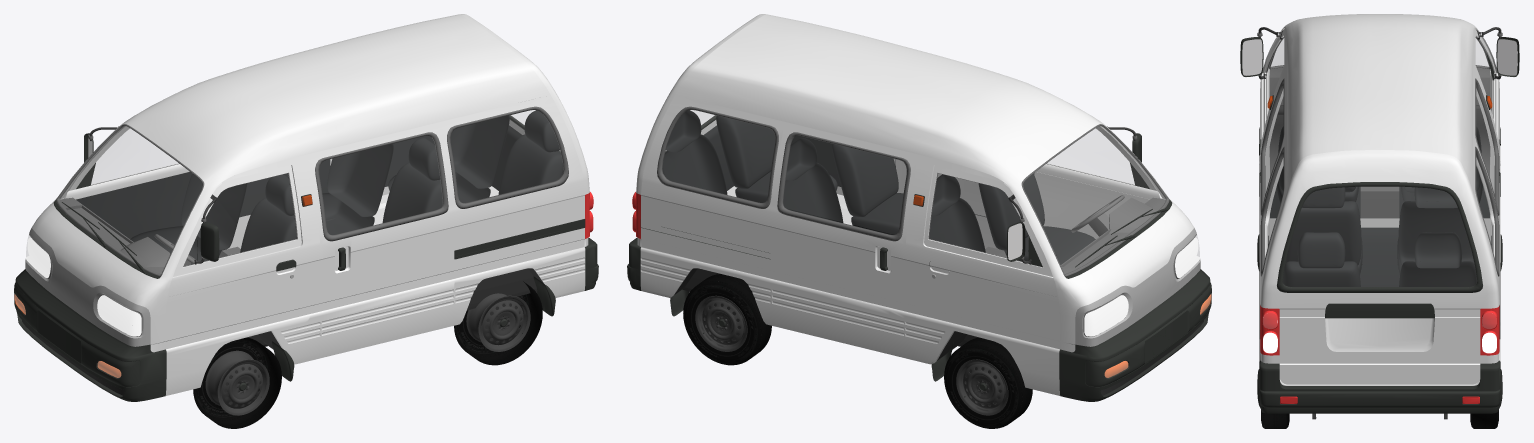
Rendered from damas_opt.glb.
The picture shows the model from 3 angles, left to right: view 1: azimuth 30°, elevation 25°; view 2: azimuth 150°, elevation 25°; view 3: azimuth 270°, elevation 25°; orthographic projection. The views are drawn at different scales.
Visible parts, largest first — view 1: Object_3, Object_7, Object_11, Object_23; view 2: Object_3, Object_7, Object_11, Object_23; view 3: Object_3, Object_7, Object_2, Object_23, Object_11.
Part boxes in pixels (box(x1,y1,x2,y2)): Object_3: box(14, 14, 598, 415); Object_7: box(14, 110, 593, 377); Object_11: box(193, 281, 542, 428); Object_23: box(15, 237, 141, 377); Object_3: box(627, 14, 1211, 415); Object_7: box(632, 110, 1211, 377); Object_11: box(683, 274, 1032, 428); Object_23: box(1084, 237, 1210, 377); Object_3: box(1240, 14, 1519, 419); Object_7: box(1263, 38, 1496, 329); Object_2: box(1242, 39, 1517, 75); Object_23: box(1263, 312, 1496, 353); Object_11: box(1261, 409, 1498, 428).
Size of the model in its own units: 8.64 by 4.79 by 4.04.
Materials: 5 (5 with a texture image).
